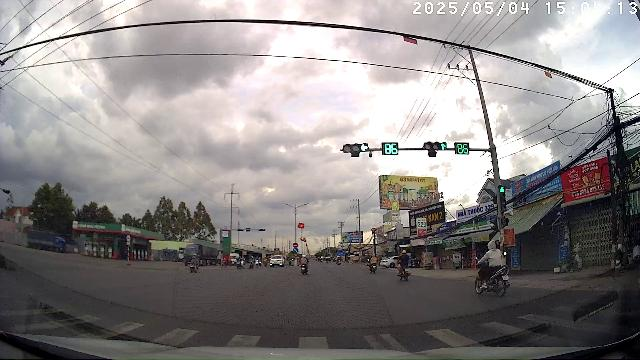102-cam-di-nguoc-chieu: (293, 242, 298, 248)
302a-huong-phai-di-vong-chuong-ngai-vat-1: (293, 247, 299, 253)
